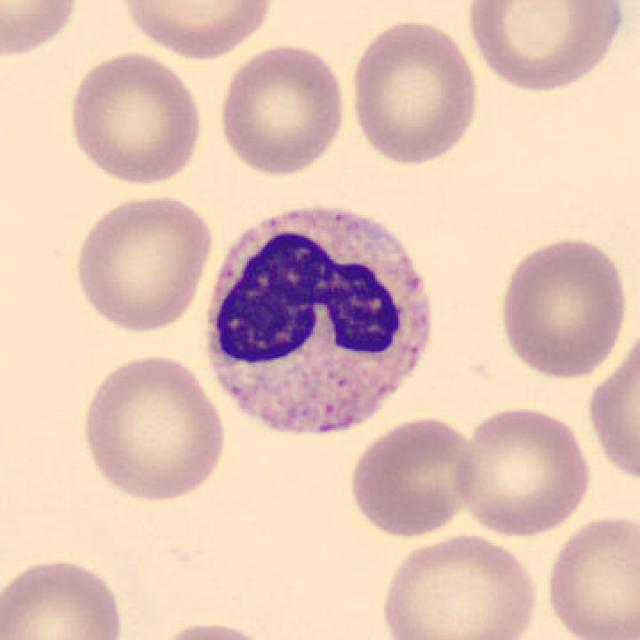Neutrophil: (197, 194, 448, 455)
RBC: (76, 351, 230, 504), (69, 189, 215, 335), (345, 14, 482, 168), (494, 233, 631, 381), (64, 47, 206, 187), (450, 402, 594, 539), (214, 41, 350, 178), (375, 529, 542, 640), (345, 412, 483, 540), (462, 0, 628, 95), (540, 509, 639, 640), (0, 552, 128, 640), (114, 0, 277, 62), (583, 321, 638, 488), (0, 0, 84, 60), (146, 617, 284, 640)
